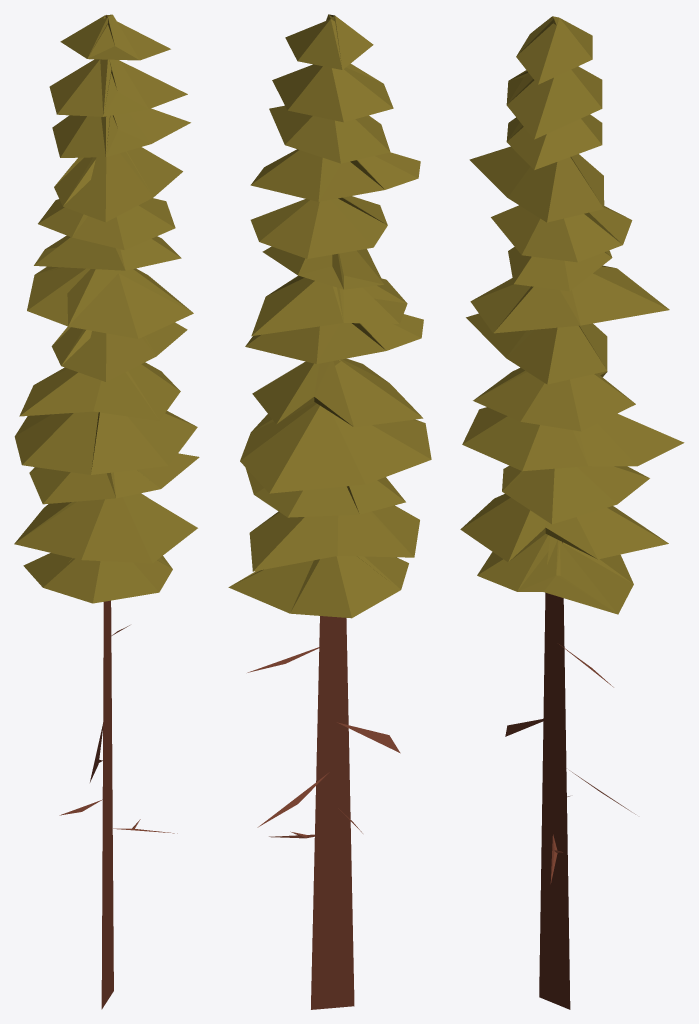
File: pine_healthy_type_4_LOD2.fbx
3 renders of one model, left to right at view 1: azimuth 30°, elevation 25°; view 2: azimuth 150°, elevation 25°; view 3: azimuth 270°, elevation 25°, orthographic.
Visible parts, largest first — view 1: pine_trunk.011; view 2: pine_trunk.011; view 3: pine_trunk.011.
Part boxes in pixels (<box>): pine_trunk.011: <box>14,14,199,1009</box>; pine_trunk.011: <box>228,14,431,1009</box>; pine_trunk.011: <box>460,16,684,1009</box>.
Size of the model in its own units: 556 by 2868 by 589.
